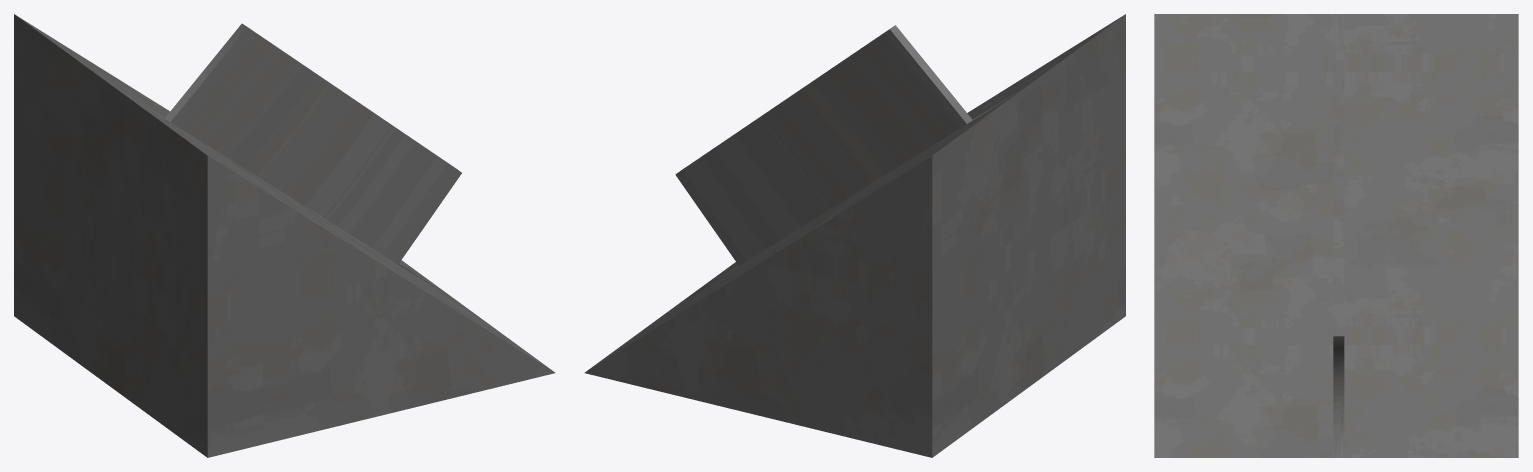
The model's file is Env_StairsColliderMesh_01.fbx.
3 views of the same model, side by side, from view 1: azimuth 30°, elevation 25°; view 2: azimuth 150°, elevation 25°; view 3: azimuth 270°, elevation 25° (orthographic). The views are drawn at different scales.
Parts seen in each view (by area): view 1: Env_StairsColliderMesh_01; view 2: Env_StairsColliderMesh_01; view 3: Env_StairsColliderMesh_01.
Boxes of the visible parts, <box> form: Env_StairsColliderMesh_01: <box>14,14,555,457</box>; Env_StairsColliderMesh_01: <box>584,14,1125,457</box>; Env_StairsColliderMesh_01: <box>1154,14,1518,457</box>.
Bounding box in the file's own units: 3.13 × 2.81 × 3.
1 material, 1 textured.
